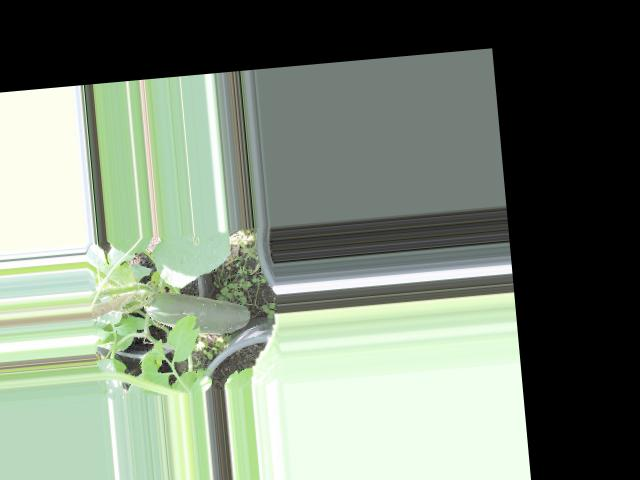cucumber: (143, 284, 251, 340)
